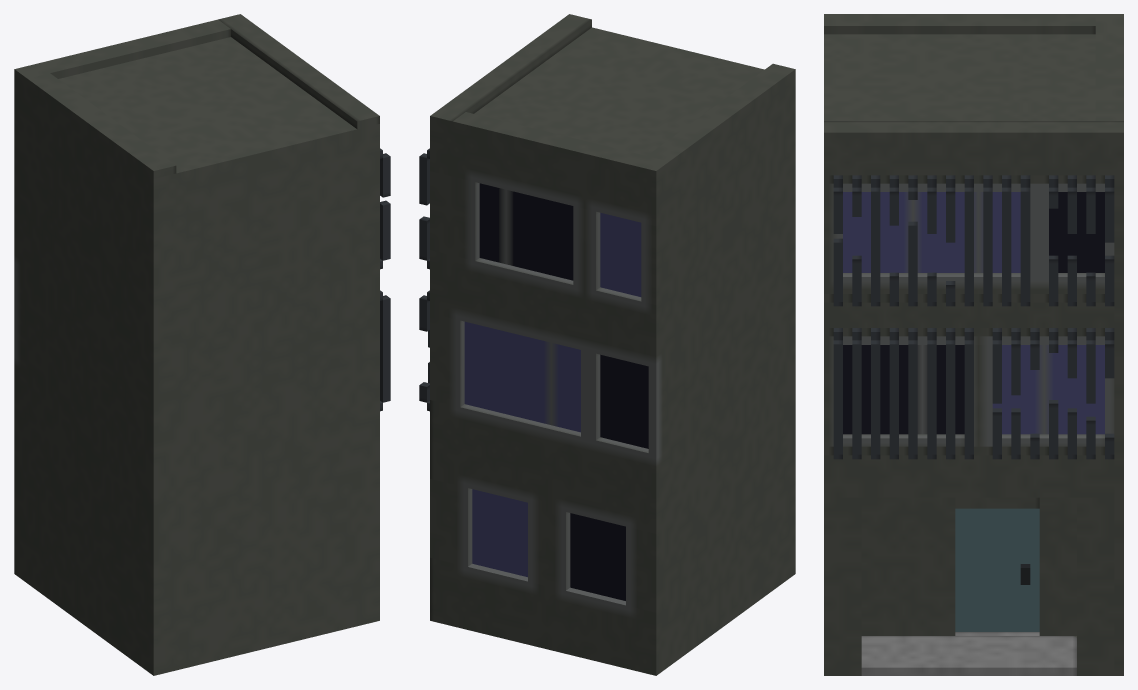
File: wejscie_01.dae
3 views of the same model, side by side, from view 1: azimuth 30°, elevation 25°; view 2: azimuth 150°, elevation 25°; view 3: azimuth 270°, elevation 25° (orthographic). The views are drawn at different scales.
Visible parts, largest first — view 1: Content; view 2: Content; view 3: Content.
Boxes of the visible parts, x1,y1,x2,y2 form: Content: [14, 14, 390, 675]; Content: [419, 14, 795, 675]; Content: [824, 14, 1123, 675].
Bounding box in the file's own units: 32 × 64 × 32.
Materials: 1 (1 with a texture image).
